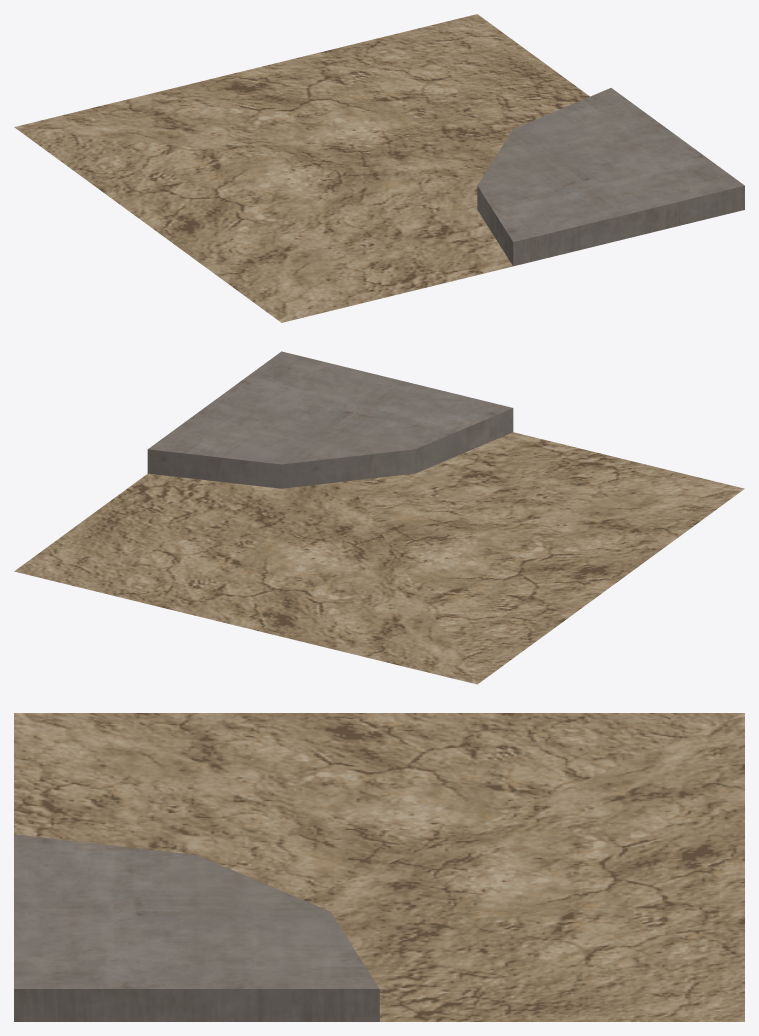
File: roadDirt_cornerOuter.fbx
3 renders of one model, top to bottom at view 1: azimuth 30°, elevation 25°; view 2: azimuth 150°, elevation 25°; view 3: azimuth 270°, elevation 25°, orthographic. The views are drawn at different scales.
Parts seen in each view (by area): view 1: roadDirt_cornerOuter; view 2: roadDirt_cornerOuter; view 3: roadDirt_cornerOuter.
Boxes of the visible parts, <box> form: roadDirt_cornerOuter: <box>14,14,744,322</box>; roadDirt_cornerOuter: <box>14,351,744,684</box>; roadDirt_cornerOuter: <box>14,713,744,1021</box>.
Size of the model in its own units: 10 by 0.5 by 10.
